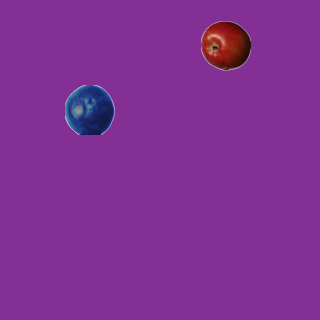Apple Braeburn: (200, 20, 250, 70)
Huckleberry: (64, 84, 114, 134)
